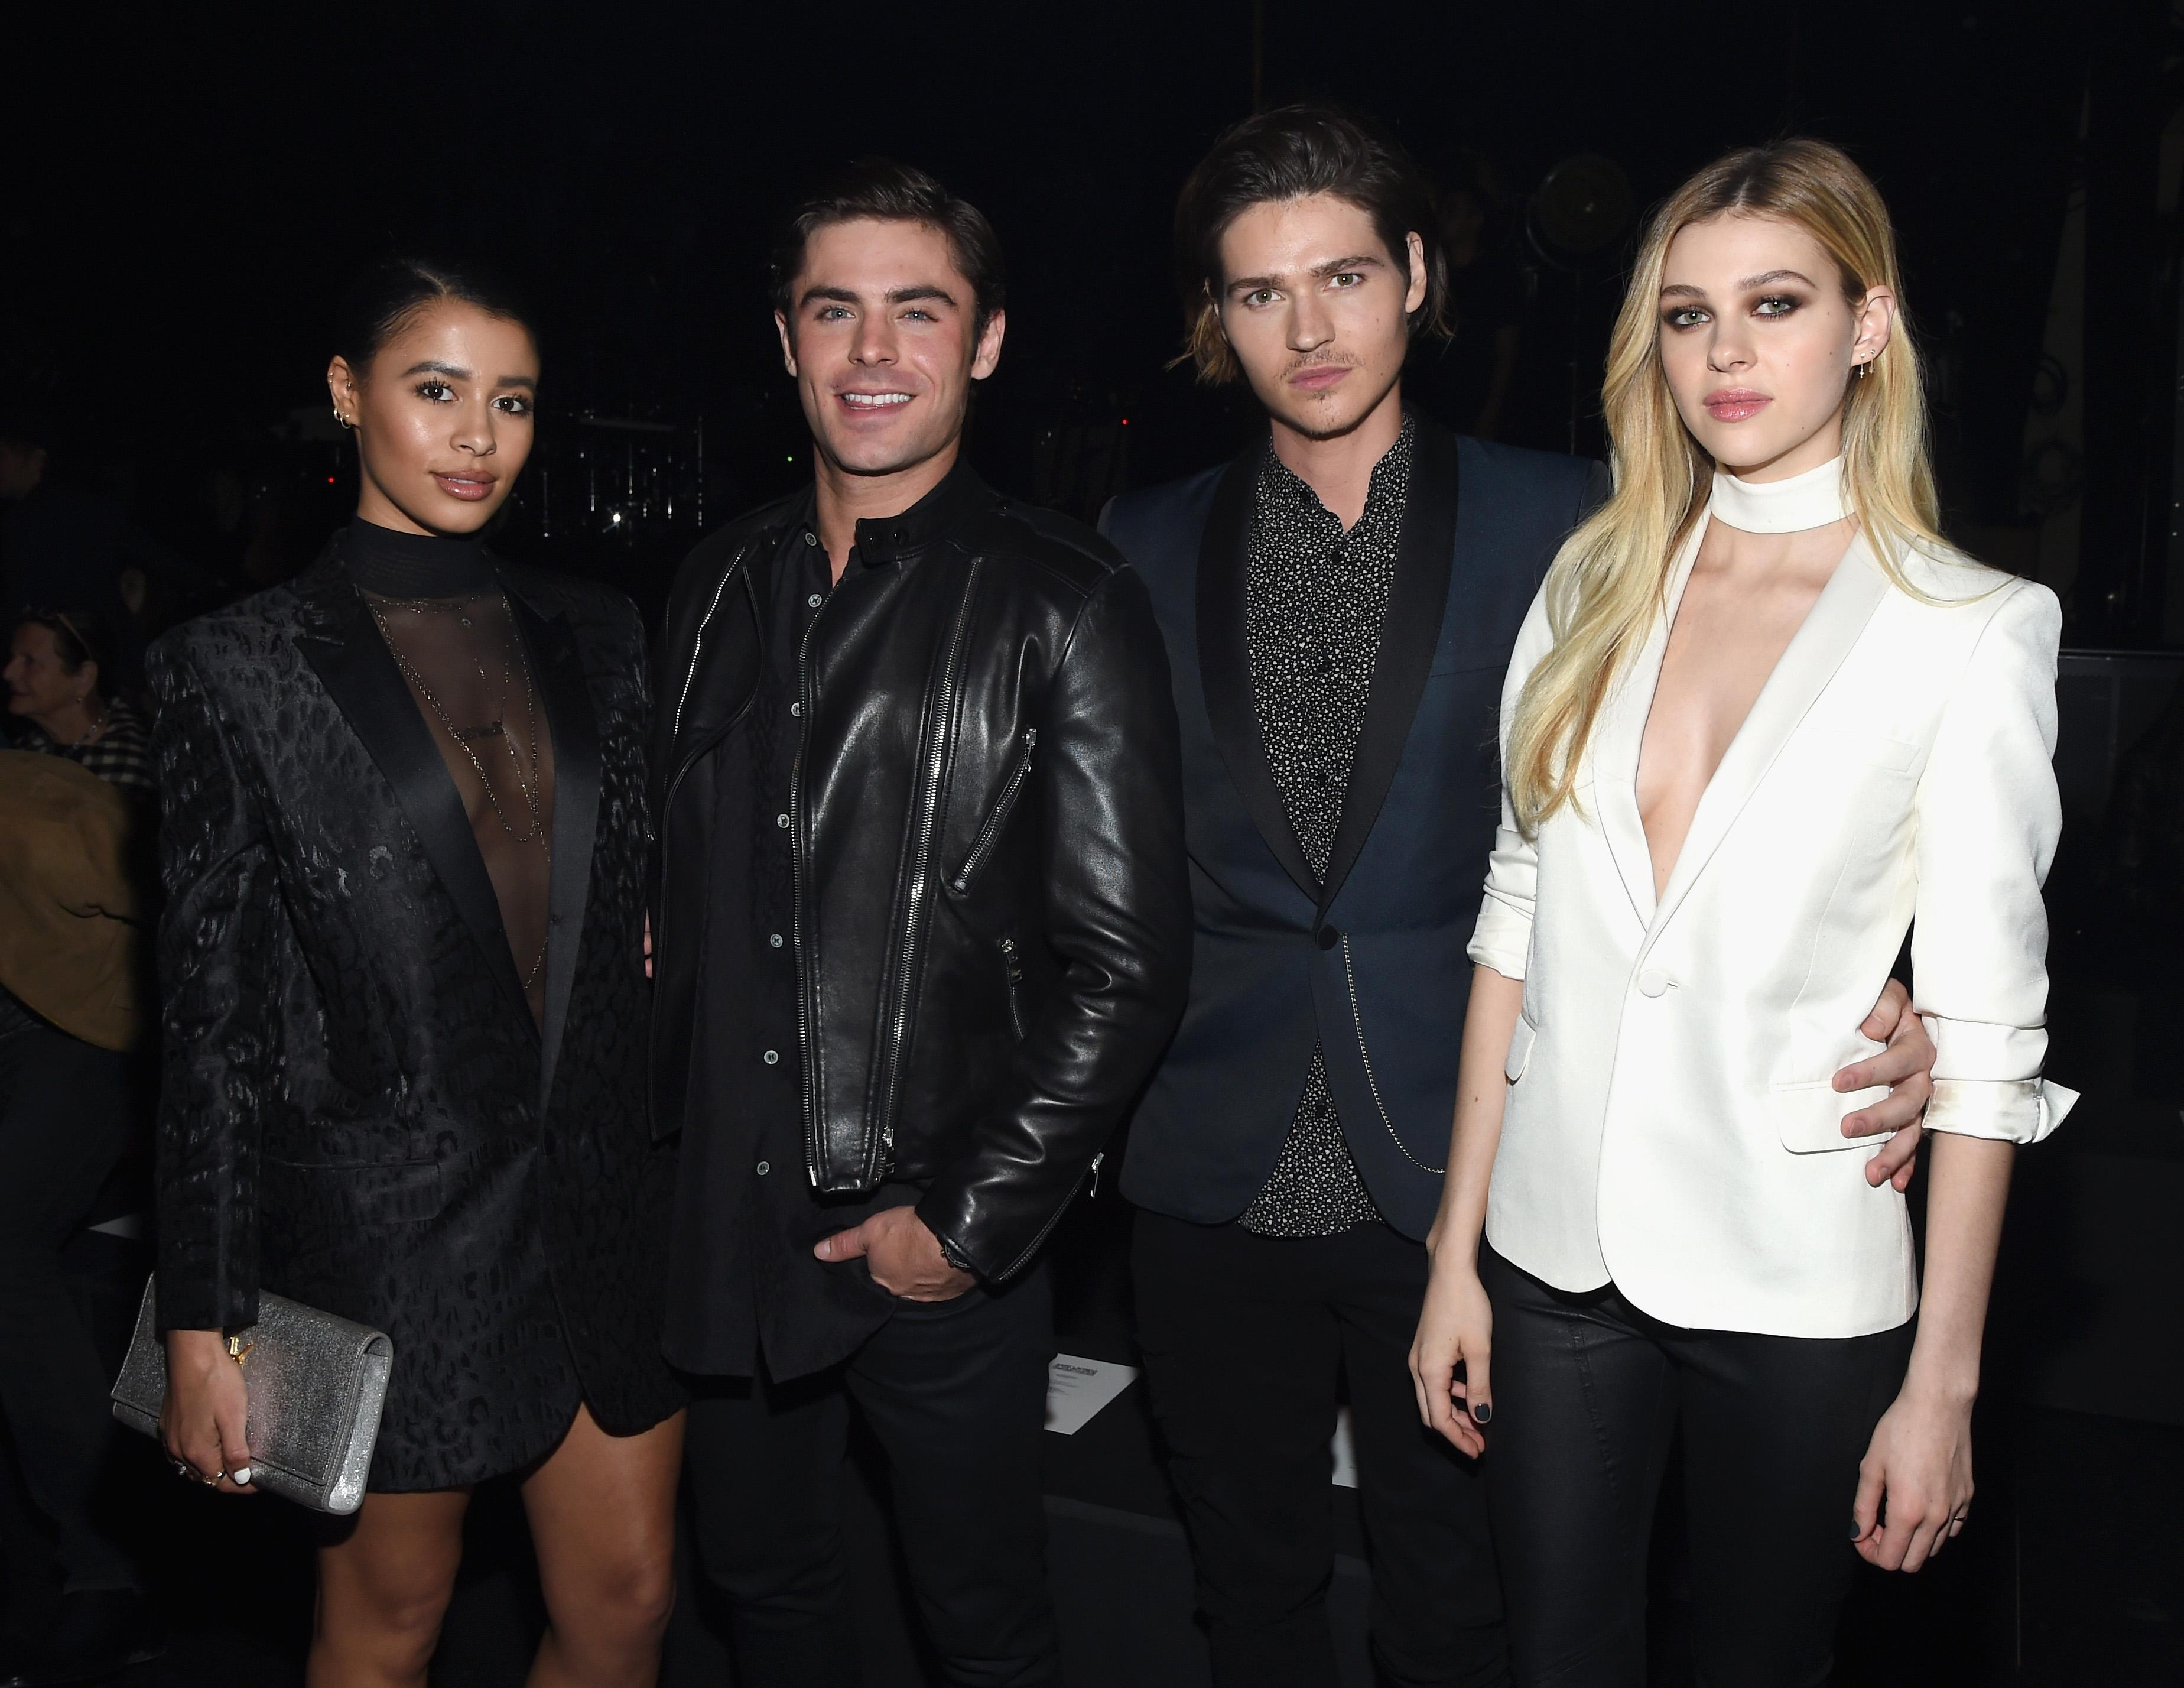Person: (1404, 134, 2078, 1688), (1098, 95, 1626, 1688), (102, 236, 679, 1688), (650, 163, 1195, 1688)
